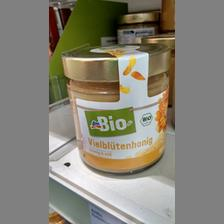Honig: (56, 42, 172, 174)
